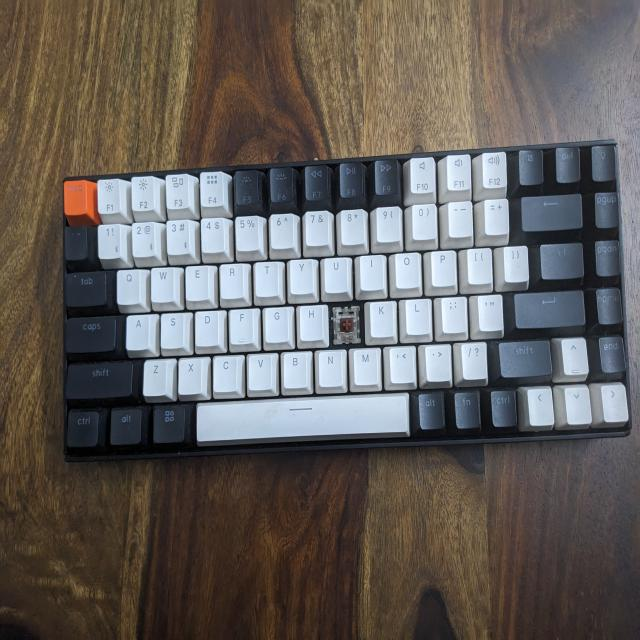C: (330, 306, 364, 343)
